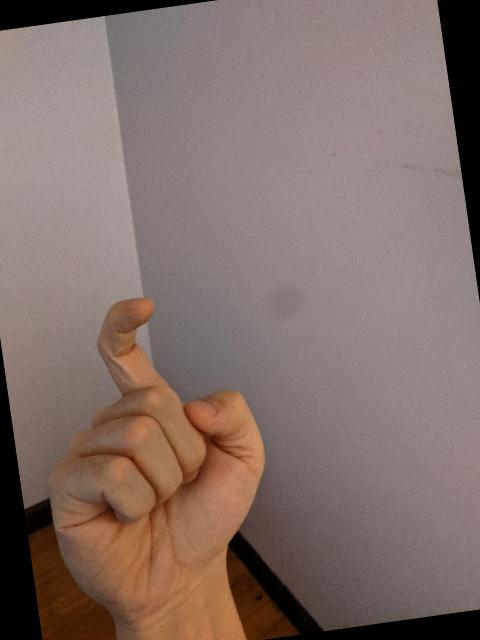X: (18, 278, 292, 630)
